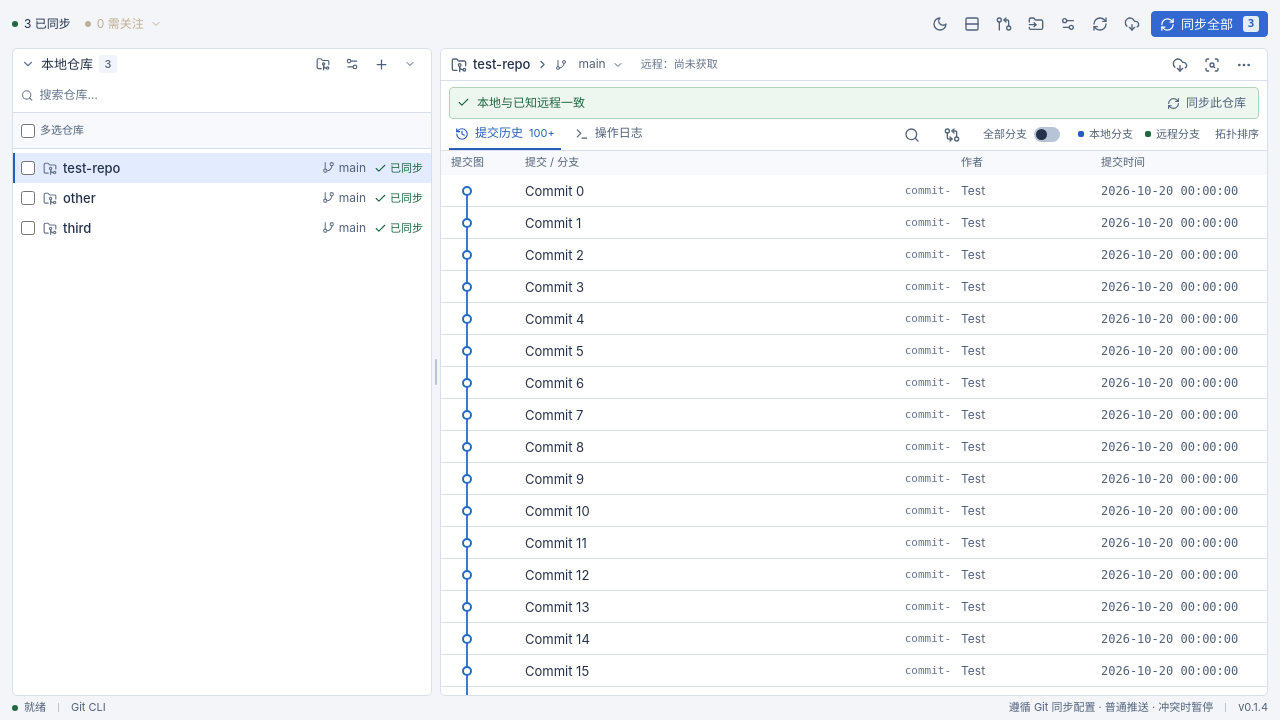
it: repository groups and bulk actions › checks and unchecks a range in either direction from a fixed anchor
Check: the text "100+" is shown, box left=529, top=126, right=555, bottom=141
Click the checkbox named "选择仓库 test-repo": (28, 168) left=21, top=161, right=35, bottom=175
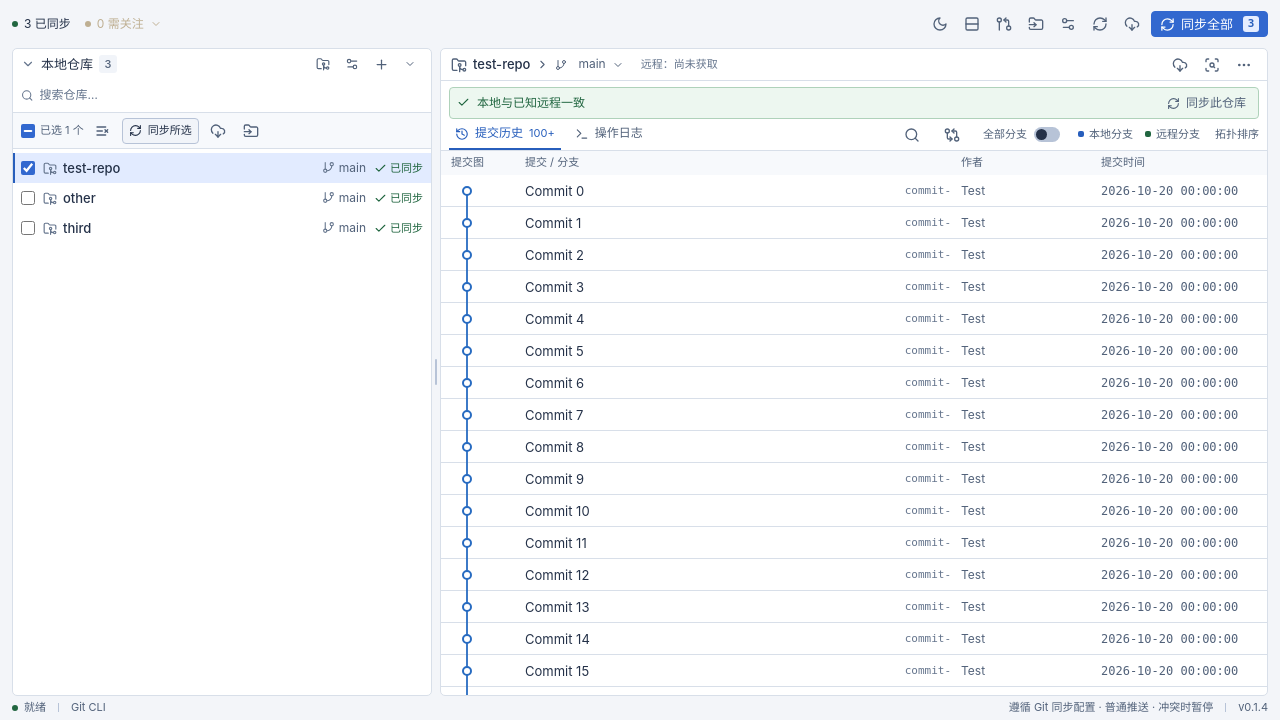
Click the checkbox named "选择仓库 third": (28, 228) left=21, top=221, right=35, bottom=235
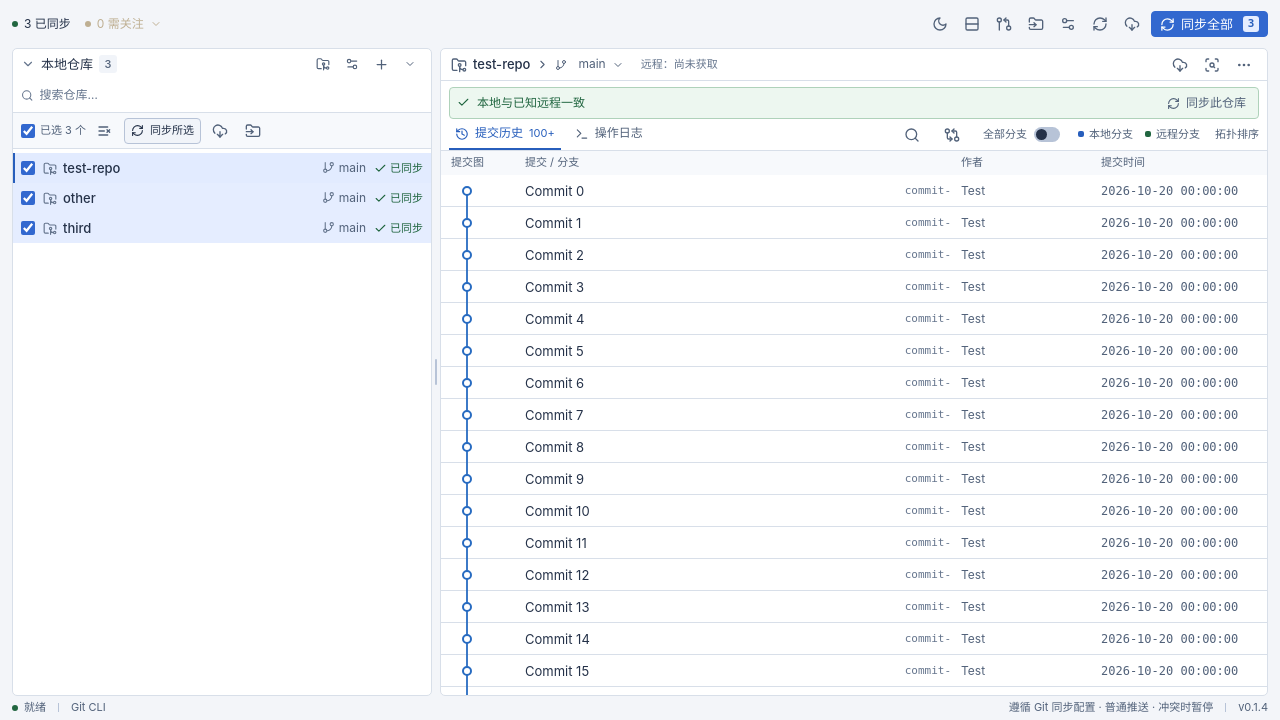
Click the checkbox named "选择仓库 other": (28, 198) left=21, top=191, right=35, bottom=205
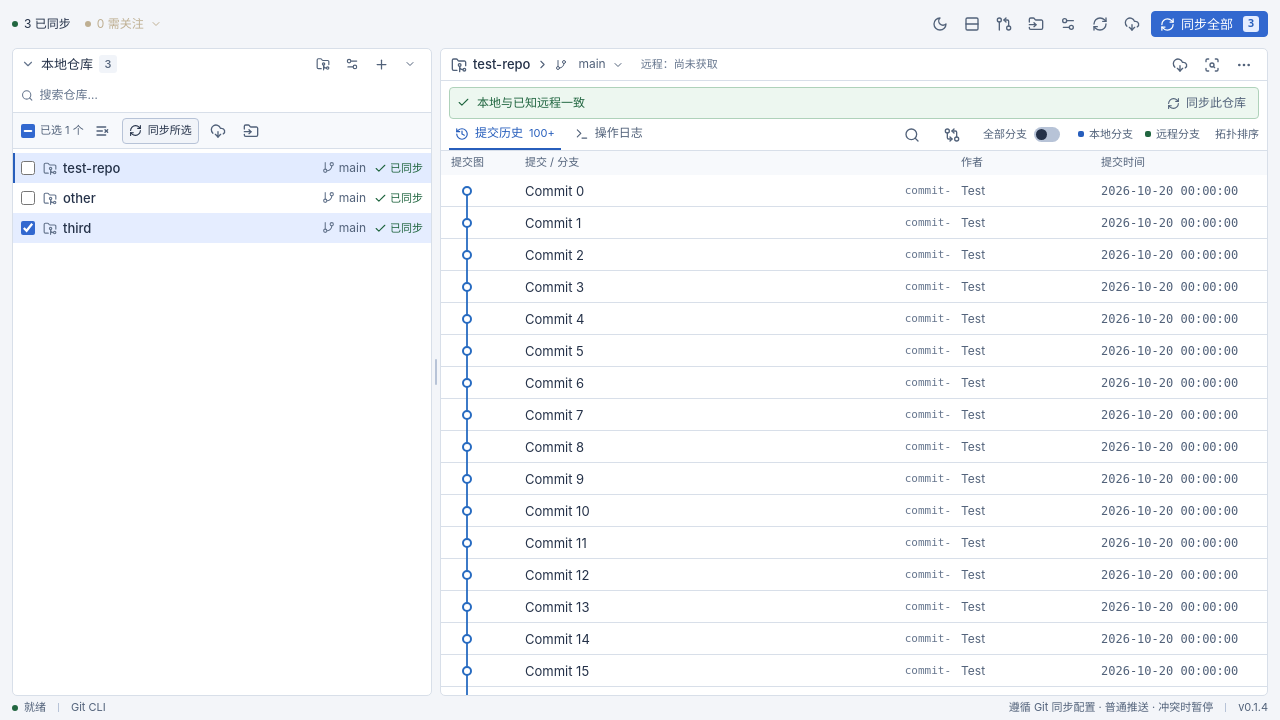
Click the button named "清空选择": (103, 130) left=89, top=118, right=117, bottom=144
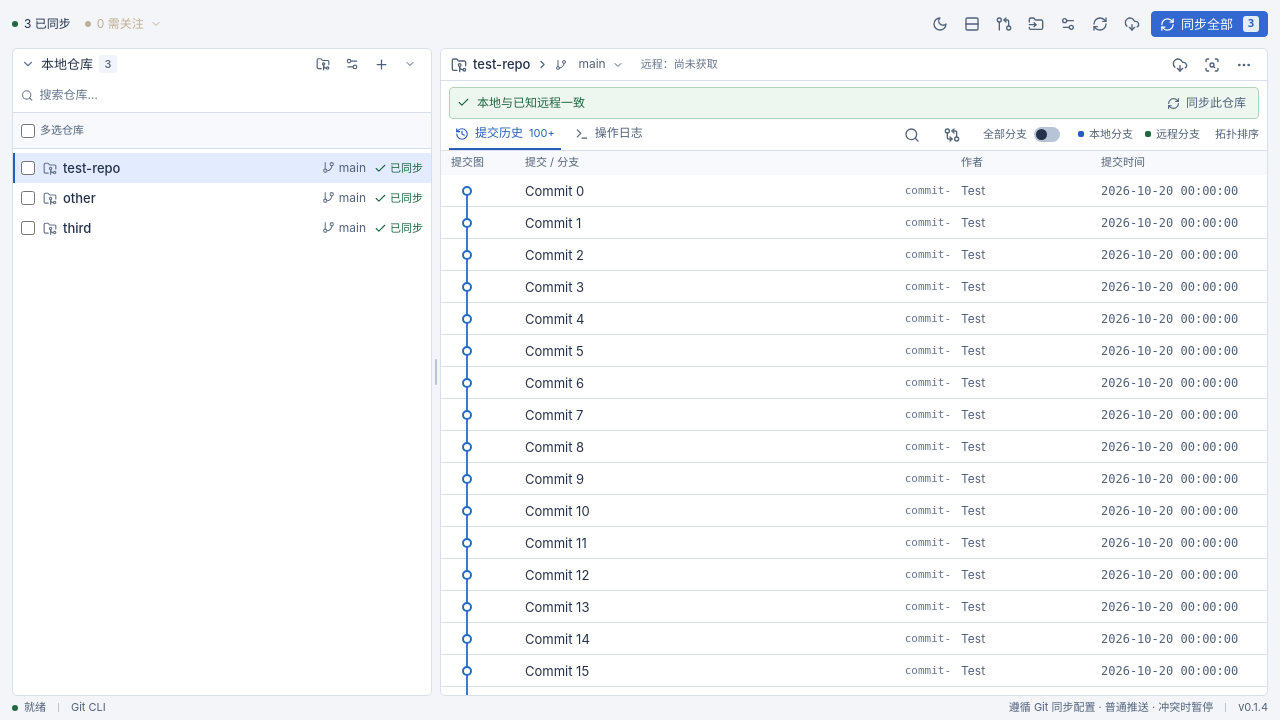
Click the checkbox named "选择仓库 third": (28, 228) left=21, top=221, right=35, bottom=235
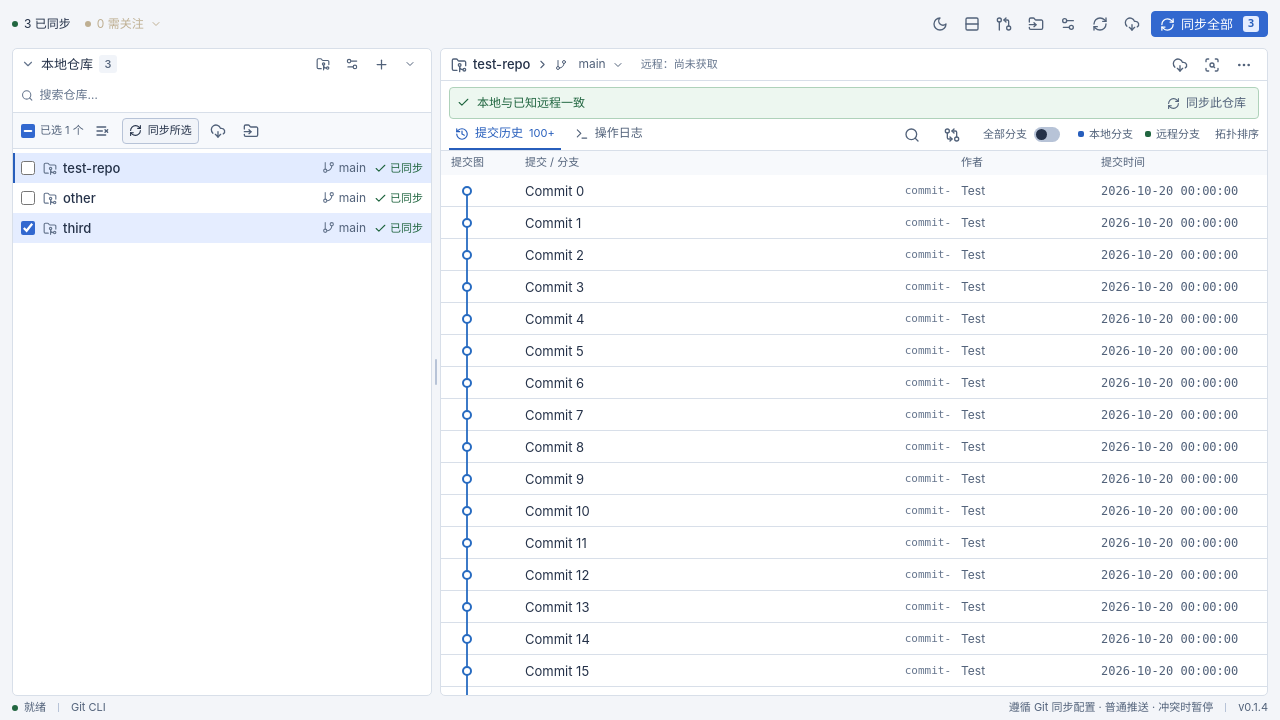
Click the checkbox named "选择仓库 test-repo": (28, 168) left=21, top=161, right=35, bottom=175
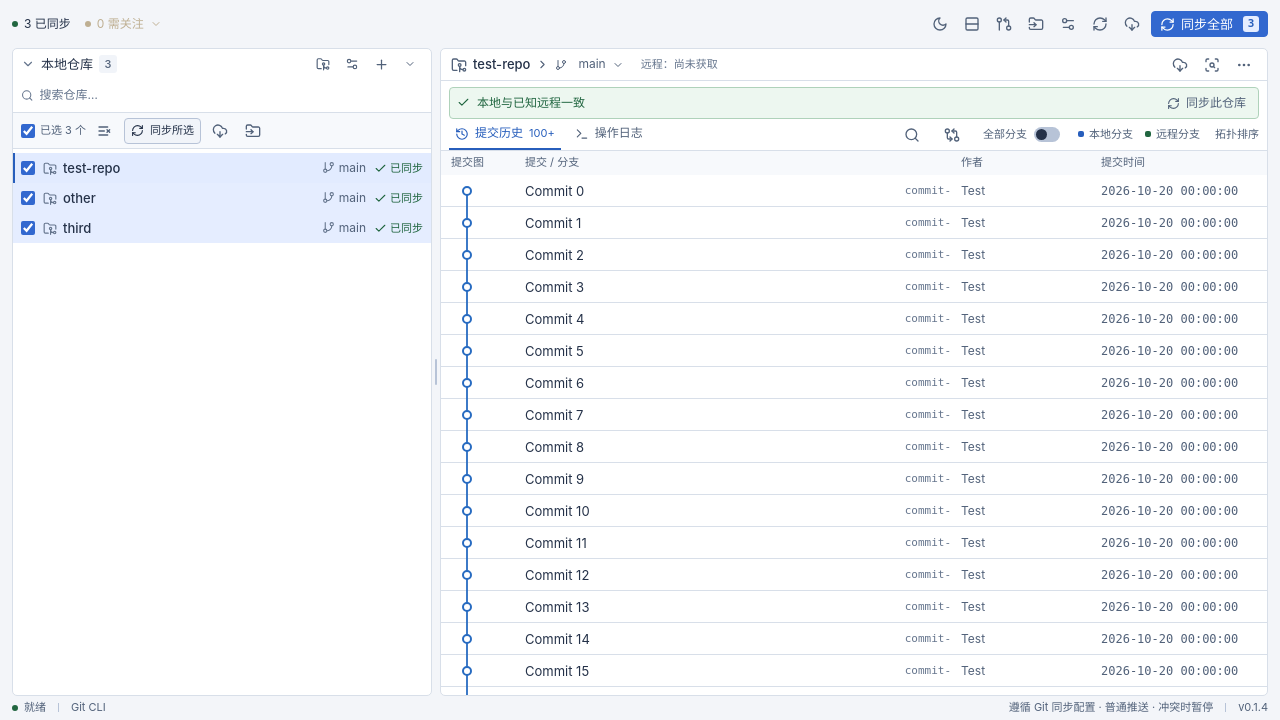
Check: the text "已选 3 个" is shown, box left=40, top=123, right=86, bottom=138
